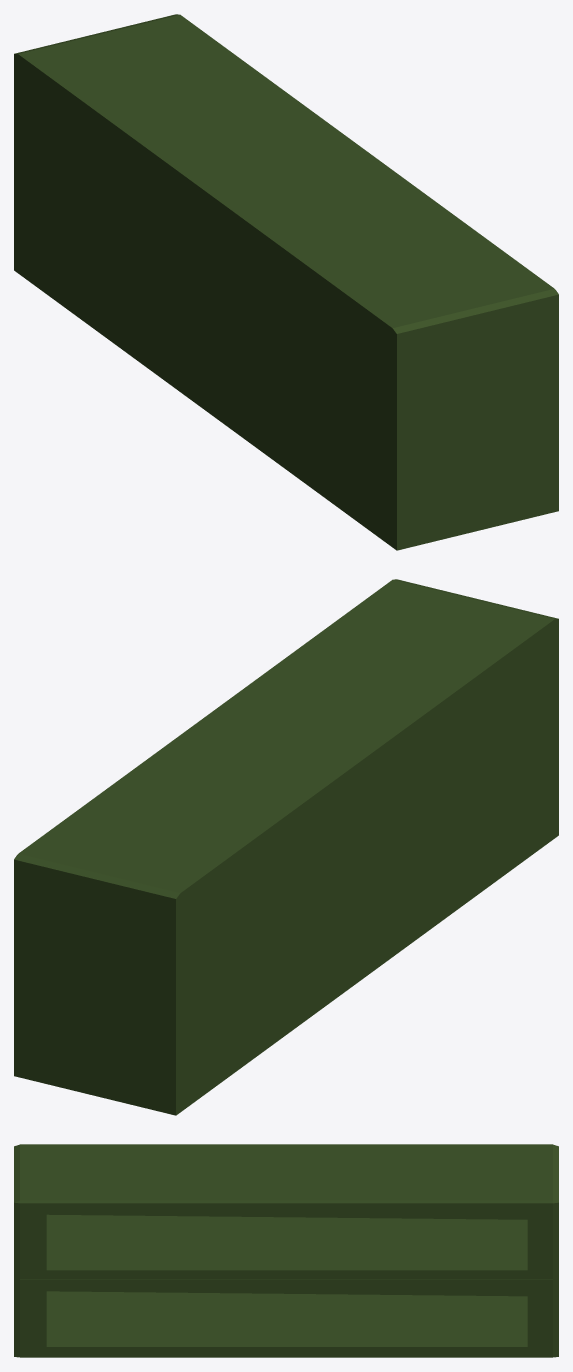
Rendered from Полка для инструментов.fbx.
3 views of the same model, one above another, from view 1: azimuth 30°, elevation 25°; view 2: azimuth 150°, elevation 25°; view 3: azimuth 270°, elevation 25° (orthographic). The views are drawn at different scales.
Visible parts, largest first — view 1: Куб; view 2: Куб; view 3: Куб.
Part boxes in pixels (x1,y1,x2,y2): Куб: (14, 14, 558, 550); Куб: (14, 579, 558, 1115); Куб: (14, 1144, 558, 1357).
Bounding box in the file's own units: 98.89 × 126 × 400.
